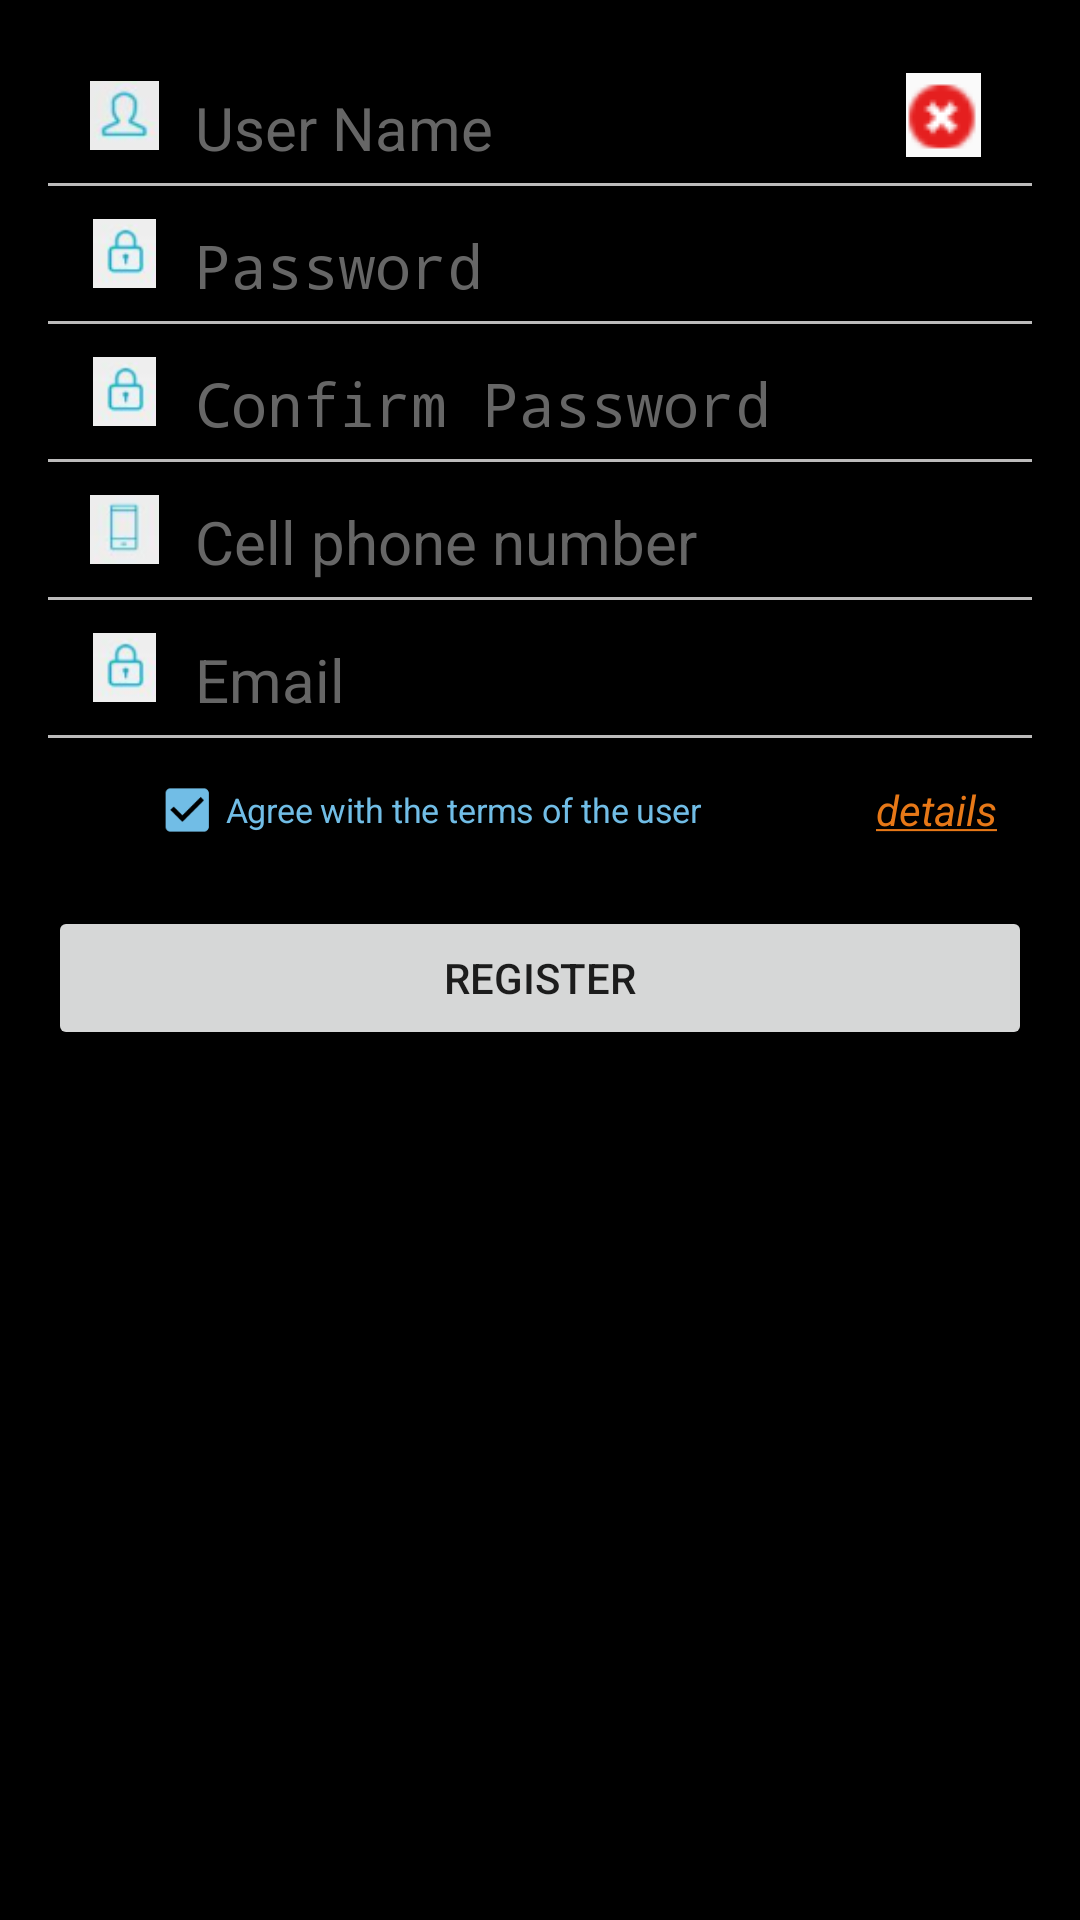

Where to tap for icons on this 1080x1920 app screen, as (x,y):
not: (943,115)
